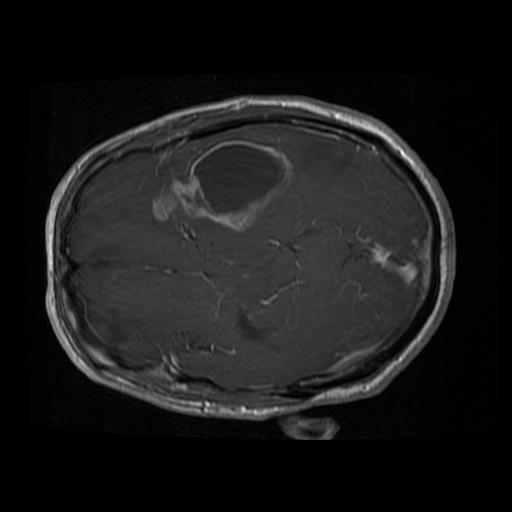glioma: (149, 139, 293, 231)
